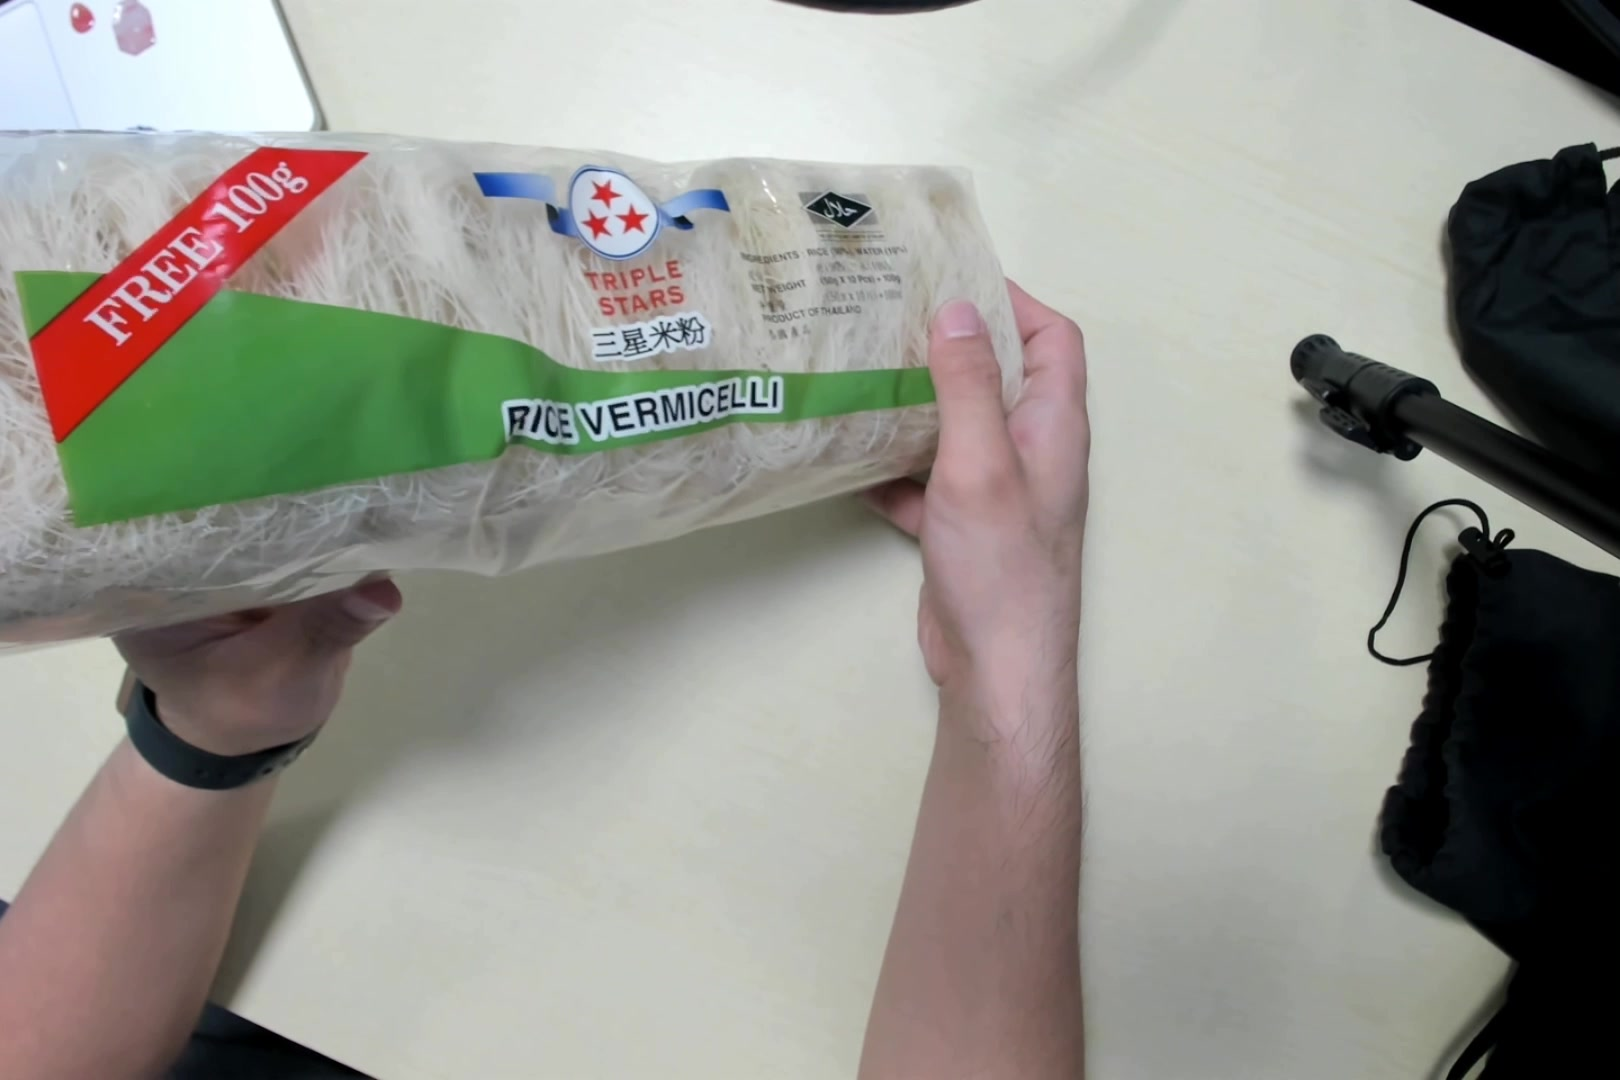BeeHoonVermicelliMeeSua_600-699g_Halal_NonHealthy: (1, 133, 1025, 576)
